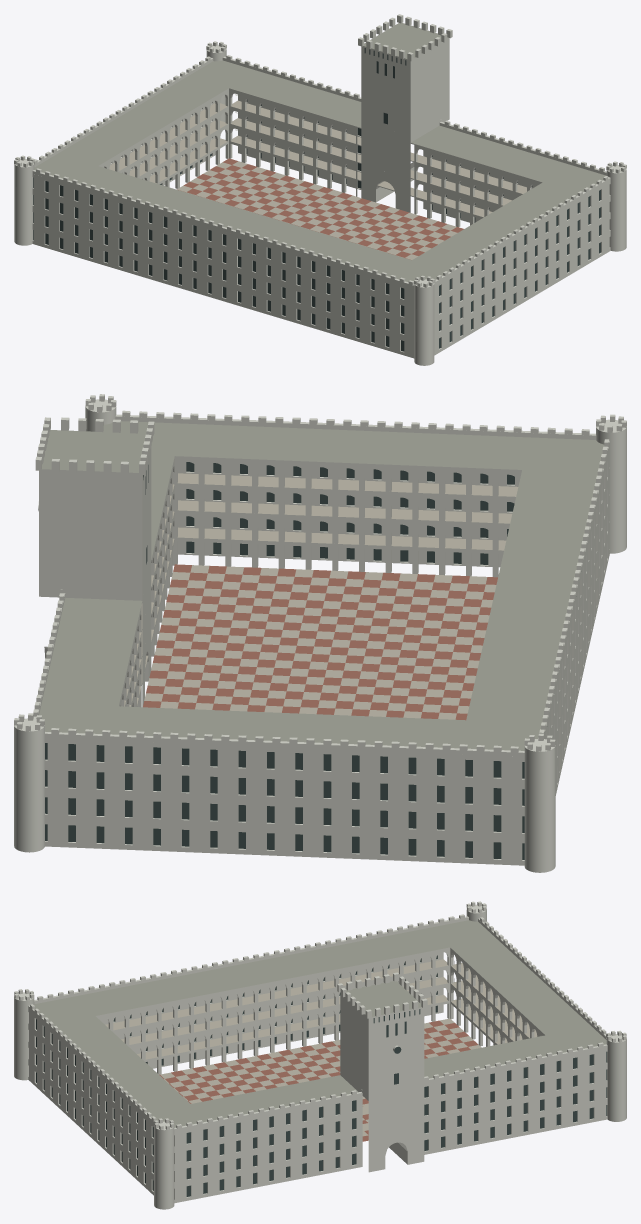
The model's file is citadel-padgett-thomas-barracks-near.glb.
3 views of the same model, one above another, from view 1: azimuth 30°, elevation 25°; view 2: azimuth 150°, elevation 25°; view 3: azimuth 270°, elevation 25° (orthographic). The views are drawn at different scales.
Parts seen in each view (by area): view 1: citadel-padgett-thomas-barracks-0-wall, citadel-padgett-thomas-barracks-0-roof, citadel-padgett-thomas-barracks-0-floor, citadel-padgett-thomas-barracks-0-glass, citadel-padgett-thomas-barracks-0-red; view 2: citadel-padgett-thomas-barracks-0-wall, citadel-padgett-thomas-barracks-0-roof, citadel-padgett-thomas-barracks-0-floor, citadel-padgett-thomas-barracks-0-red, citadel-padgett-thomas-barracks-0-glass; view 3: citadel-padgett-thomas-barracks-0-wall, citadel-padgett-thomas-barracks-0-roof, citadel-padgett-thomas-barracks-0-floor, citadel-padgett-thomas-barracks-0-glass, citadel-padgett-thomas-barracks-0-red.
Part boxes in pixels (box(x1,y1,x2,y2)): citadel-padgett-thomas-barracks-0-wall: box(14, 14, 626, 365); citadel-padgett-thomas-barracks-0-roof: box(34, 23, 606, 282); citadel-padgett-thomas-barracks-0-floor: box(109, 100, 526, 259); citadel-padgett-thomas-barracks-0-glass: box(33, 48, 600, 351); citadel-padgett-thomas-barracks-0-red: box(177, 158, 463, 259); citadel-padgett-thomas-barracks-0-wall: box(14, 394, 626, 872); citadel-padgett-thomas-barracks-0-roof: box(39, 421, 604, 750); citadel-padgett-thomas-barracks-0-floor: box(124, 473, 518, 719); citadel-padgett-thomas-barracks-0-red: box(143, 564, 497, 720); citadel-padgett-thomas-barracks-0-glass: box(45, 462, 524, 859); citadel-padgett-thomas-barracks-0-wall: box(14, 901, 626, 1209); citadel-padgett-thomas-barracks-0-roof: box(34, 920, 606, 1127); citadel-padgett-thomas-barracks-0-floor: box(105, 959, 537, 1136); citadel-padgett-thomas-barracks-0-glass: box(36, 955, 606, 1196); citadel-padgett-thomas-barracks-0-red: box(159, 1020, 478, 1141).
Bounding box in the file's own units: 99.27 × 33.22 × 114.
